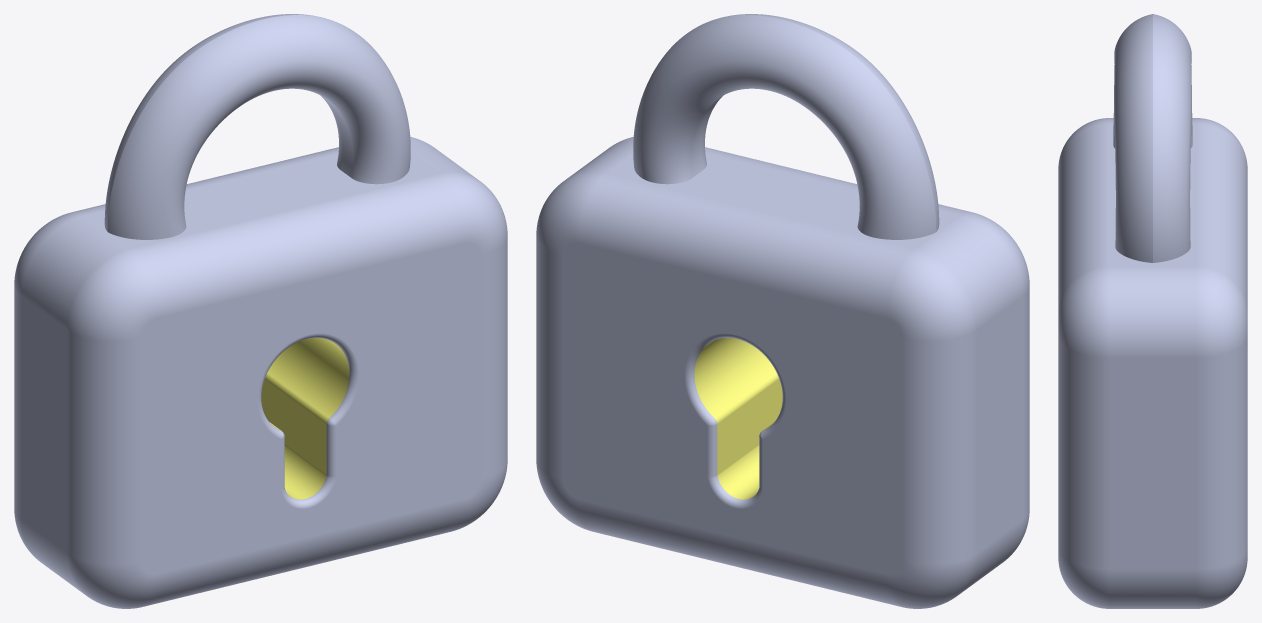
Rendered from lock-alt.fbx.
3 renders of one model, left to right at view 1: azimuth 30°, elevation 25°; view 2: azimuth 150°, elevation 25°; view 3: azimuth 270°, elevation 25°, orthographic. The views are drawn at different scales.
Parts seen in each view (by area): view 1: Part1 (×2); view 2: Part1 (×2); view 3: Part1.
Boxes of the visible parts, box(x1,y1,x2,y2) form: Part1 (×2): box(14, 14, 507, 608); Part1 (×2): box(536, 14, 1029, 608); Part1: box(1058, 14, 1247, 608).
Size of the model in its own units: 138 by 161 by 55.
